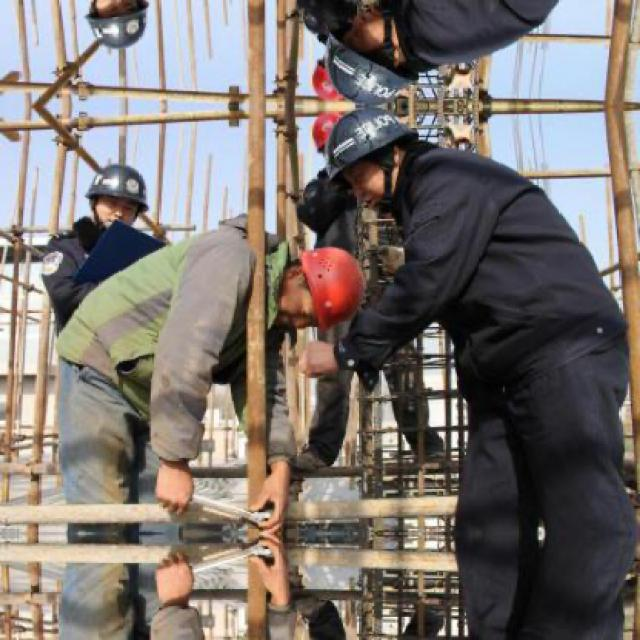helmet: (326, 108, 417, 211), (326, 3, 417, 106), (276, 245, 370, 330), (86, 164, 149, 232), (86, 0, 151, 51), (311, 57, 346, 102), (311, 113, 346, 157)
